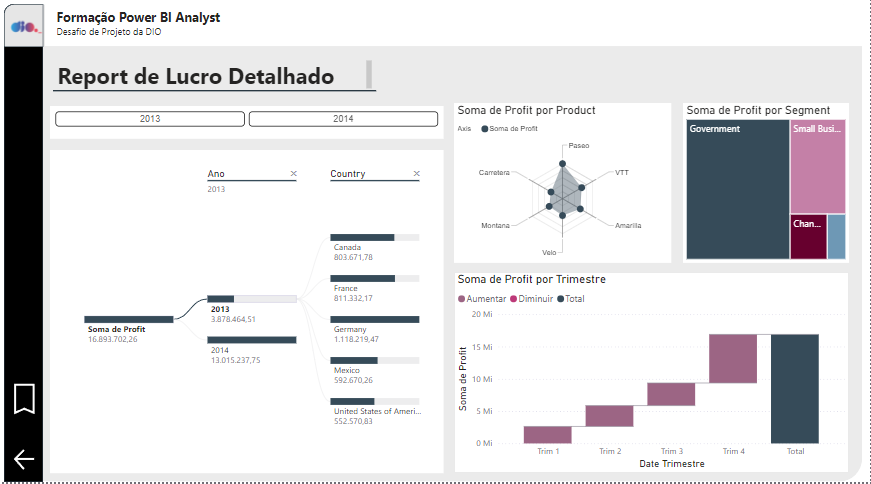

The dashboard page shown, as its layout file describes it:
{"tool":"powerbi","page":{"name":"Página 2","canvas":[1280,720],"ordinal":1},"visuals":[{"type":"shape","box":[42.6,20.7,1225.3,699.3],"z":0},{"type":"shape","box":[83.9,127.8,473,37.1],"z":0,"group":"g1"},{"type":"textbox","box":[85.3,97.6,470.2,52.2],"z":1000,"group":"g1"},{"type":"shape","box":[11.7,20.5,57.1,699.5],"z":1000},{"type":"shape","box":[12.4,20.6,57.7,63.2],"z":2000},{"type":"shape","title":"Fundo do Título","box":[71.5,20.6,1198.9,61.9],"z":3000},{"type":"textbox","title":"Título do report","box":[83.9,22,378.1,63.2],"z":4000},{"type":"shape","box":[79.7,233.7,576.1,473],"z":5000},{"type":"decompositionTreeVisual","fields":{"Analyze":["Sum(financials.Profit)"],"ExplainBy":["financials.Date.Variation.Hierarquia de datas.Ano","financials.Country"]},"box":[99.8,242.2,536.3,456.5],"z":6000},{"type":"waterfallChart","fields":{"Category":["financials.Date.Variation.Hierarquia de datas.Trimestre"],"Y":["Sum(financials.Profit)"]},"box":[670.9,412.5,577.4,294.2],"z":7000},{"type":"ChicletSlicer1448559807354","fields":{"Category":["financials.Date.Variation.Hierarquia de datas.Ano"]},"box":[79.7,170.5,576.1,48.1],"z":8000},{"type":"RadarChart1446119667547","fields":{"Category":["financials.Product"],"Y":["Sum(financials.Profit)"]},"box":[670.9,165,317.6,233.7],"z":9000},{"type":"treemap","fields":{"Values":["Sum(financials.Profit)"],"Group":["financials.Segment"]},"box":[1005,165,243.4,233.7],"z":10000},{"type":"actionButton","box":[22,666.8,48.1,39.9],"z":11000},{"type":"group","id":"g1","title":"Sales report","box":[83.9,97.6,473,67.4],"z":12000},{"type":"actionButton","box":[12.8,545.8,57,105.5],"z":13000},{"type":"image","box":[16.1,26.3,57.1,55.6],"z":14000}]}

Visuals, with their boxes on the page's 1280x720 design canvas (x1, y1, x2, y2). These are canvas units, not pixel positions in the 871x484 screenshot, which may show the page scaled, cropped or inside an application window:
shape: BBox(43, 21, 1268, 720)
shape: BBox(84, 128, 557, 165)
textbox: BBox(85, 98, 556, 150)
shape: BBox(12, 20, 69, 720)
shape: BBox(12, 21, 70, 84)
"Fundo do Título" shape: BBox(72, 21, 1270, 82)
"Título do report" textbox: BBox(84, 22, 462, 85)
shape: BBox(80, 234, 656, 707)
decompositionTreeVisual - Sum(financials.Profit) x financials.Date.Variation.Hierarquia de datas.Ano: BBox(100, 242, 636, 699)
waterfallChart - financials.Date.Variation.Hierarquia de datas.Trimestre x Sum(financials.Profit): BBox(671, 412, 1248, 707)
ChicletSlicer1448559807354 - financials.Date.Variation.Hierarquia de datas.Ano: BBox(80, 170, 656, 219)
RadarChart1446119667547 - financials.Product x Sum(financials.Profit): BBox(671, 165, 988, 399)
treemap - Sum(financials.Profit) x financials.Segment: BBox(1005, 165, 1248, 399)
actionButton: BBox(22, 667, 70, 707)
"Sales report" group: BBox(84, 98, 557, 165)
actionButton: BBox(13, 546, 70, 651)
image: BBox(16, 26, 73, 82)
